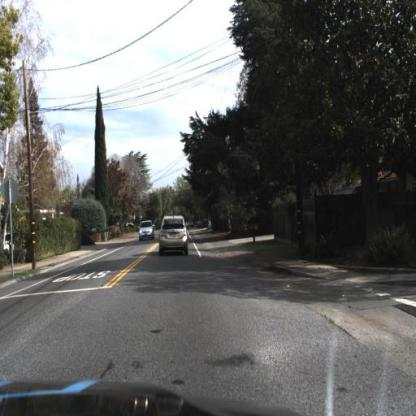car: (159, 215, 193, 266), (138, 221, 156, 248)
